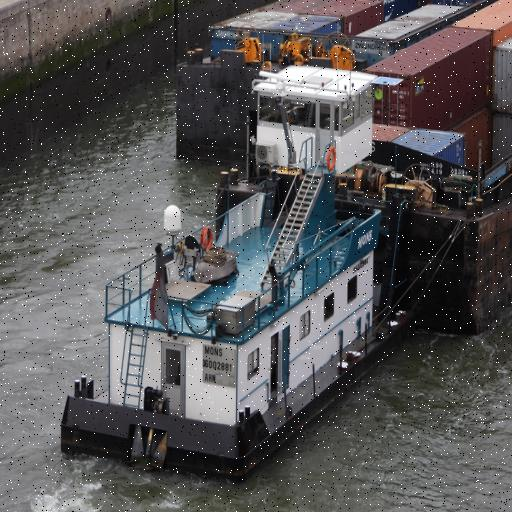tugboat: (57, 57, 418, 488)
